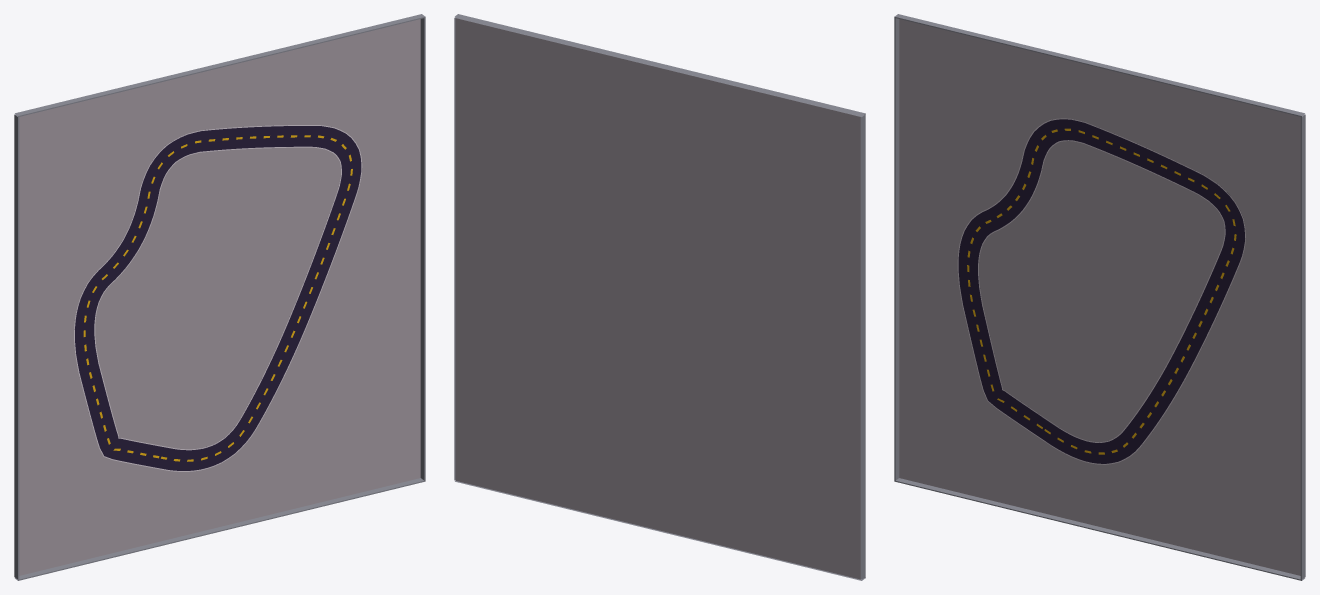
Rendered from track.obj.
The picture shows the model from 3 angles, left to right: view 1: azimuth 30°, elevation 25°; view 2: azimuth 150°, elevation 25°; view 3: azimuth 330°, elevation 25°; orthographic projection.
Bounding box in the file's own units: 19.02 × 20.74 × 0.3.
5 materials, 5 textured.
